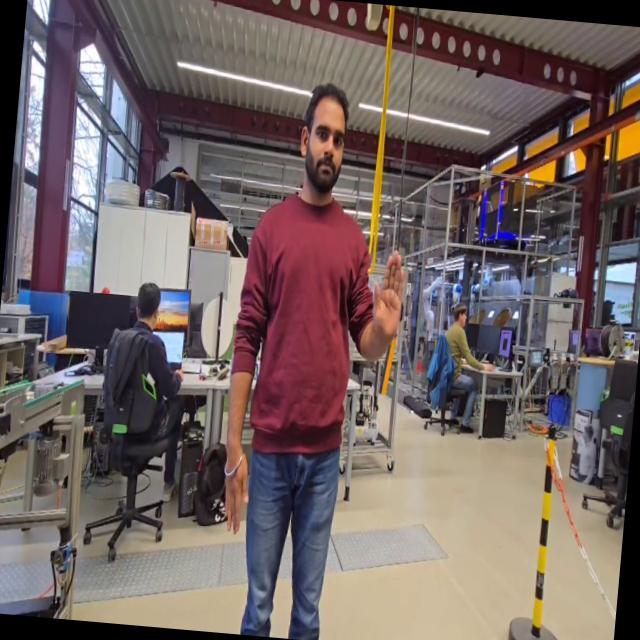open_palm: (366, 244, 412, 350)
